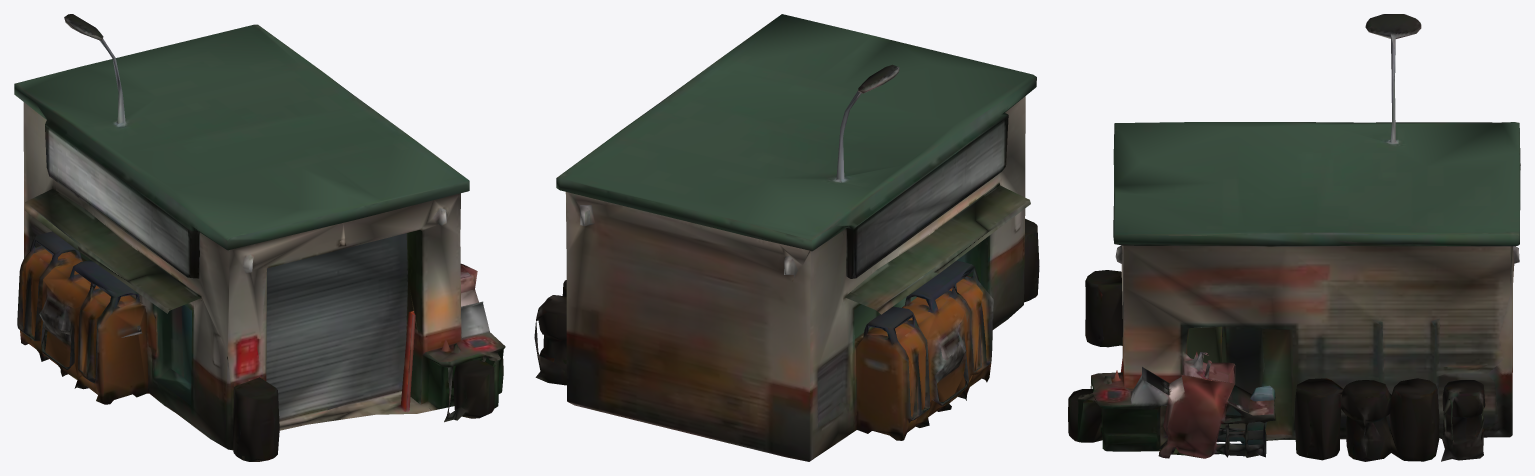
Rendered from garage.glb.
The picture shows the model from 3 angles, left to right: view 1: azimuth 30°, elevation 25°; view 2: azimuth 150°, elevation 25°; view 3: azimuth 270°, elevation 25°; orthographic projection. The views are drawn at different scales.
Bounding box in the file's own units: 0.8294 × 0.7628 × 0.9975.
1 material, 1 textured.
